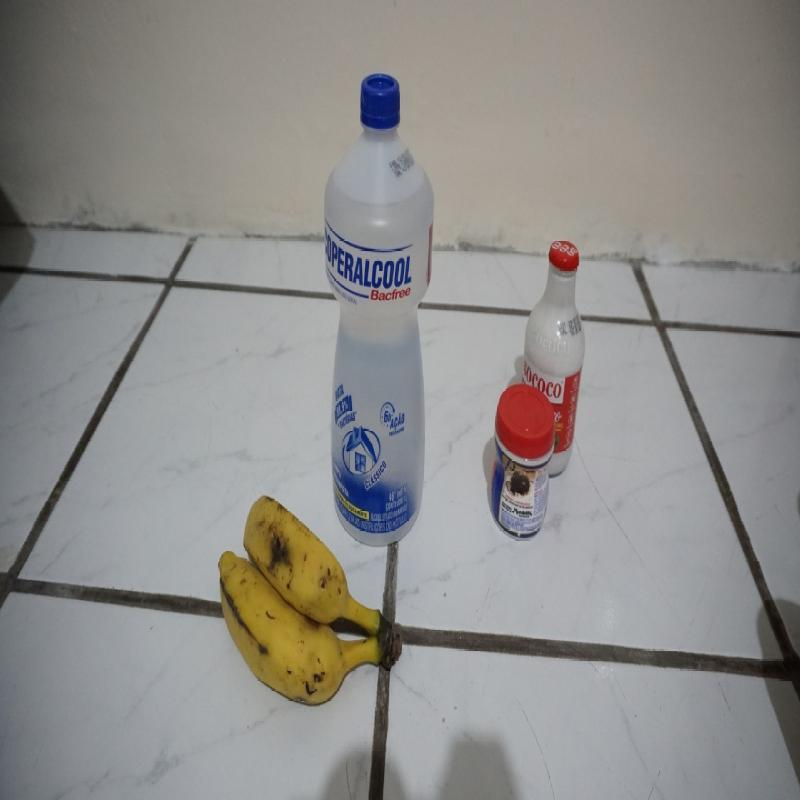Alcohol Bottle: (323, 67, 434, 490)
Banana: (217, 496, 400, 736)
Coconut Milk: (520, 239, 588, 378)
Yeast: (484, 383, 554, 540)
